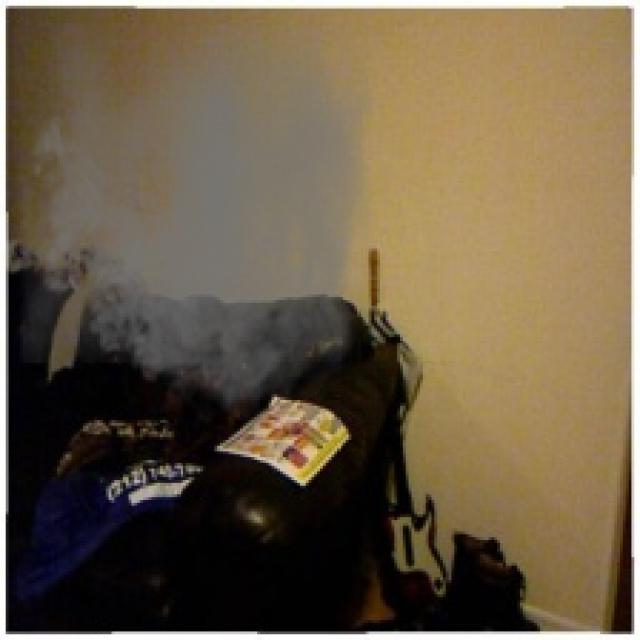smoke: (20, 23, 374, 431)
